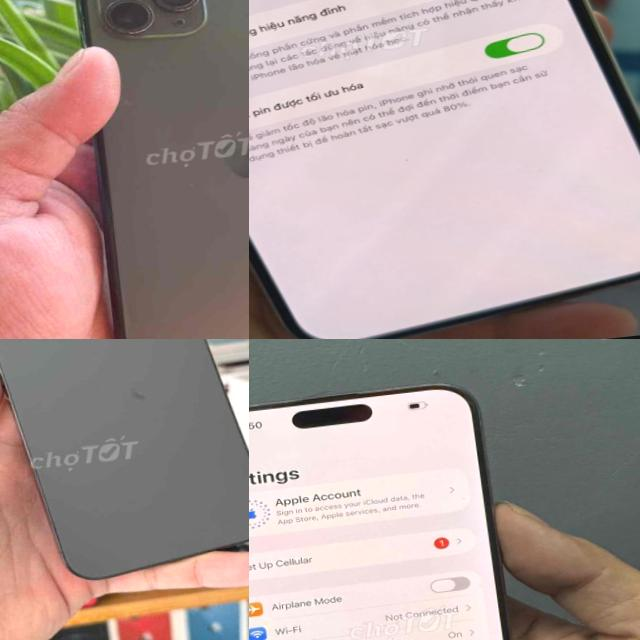scratch: (232, 0, 249, 22)
